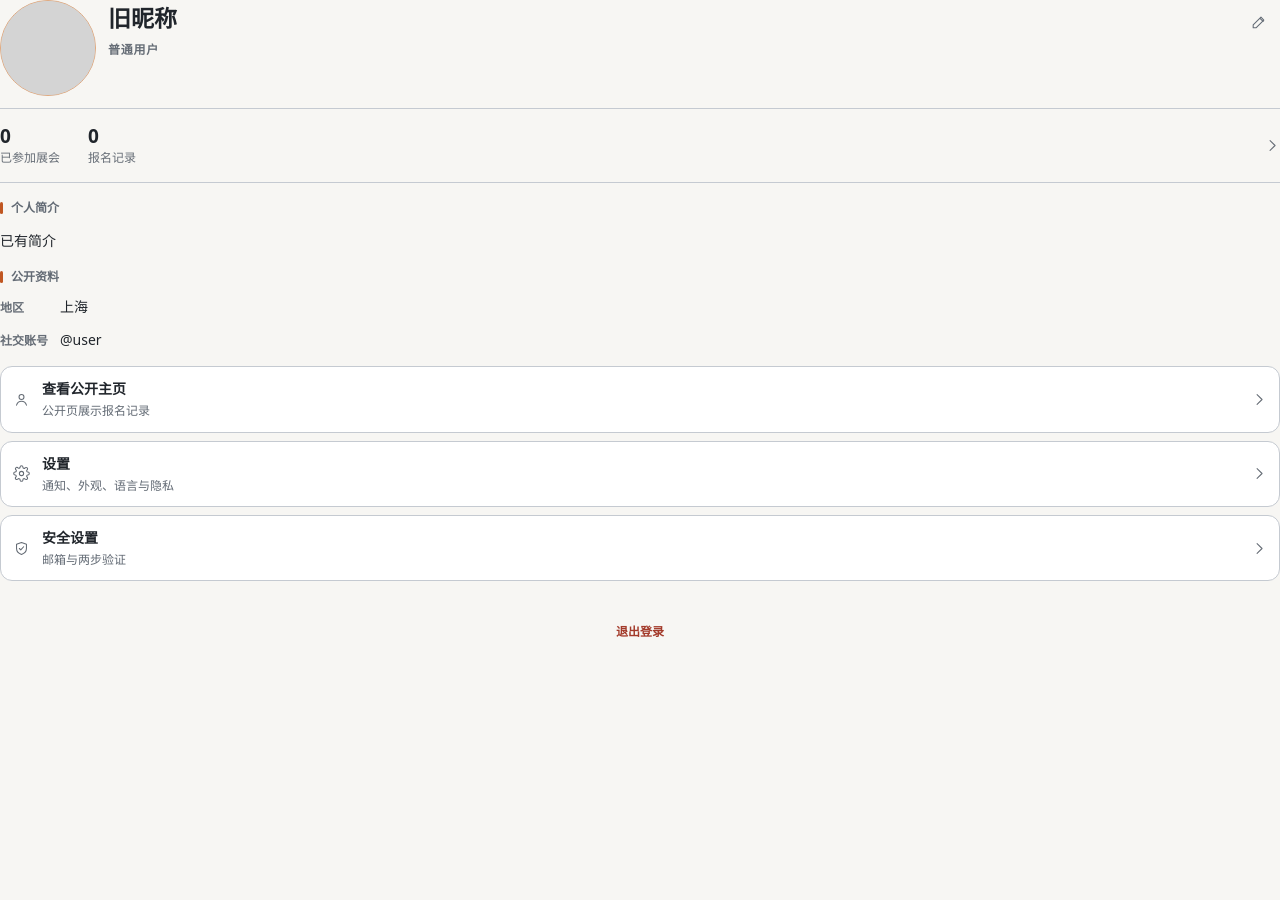
Scenario: 个人页资料展示与编辑 › 身份卡只留身份与活动，简介在简介卡，地区与社交账号在公开资料卡
Check: the element showing "旧昵称 普通用户 0 已参加展会 0 报名记录" is shown, box [0,0,1279,183]
Check: the text "上海" is not shown
Click the button named "编辑资料": click(1258, 22) [1236,0,1279,44]
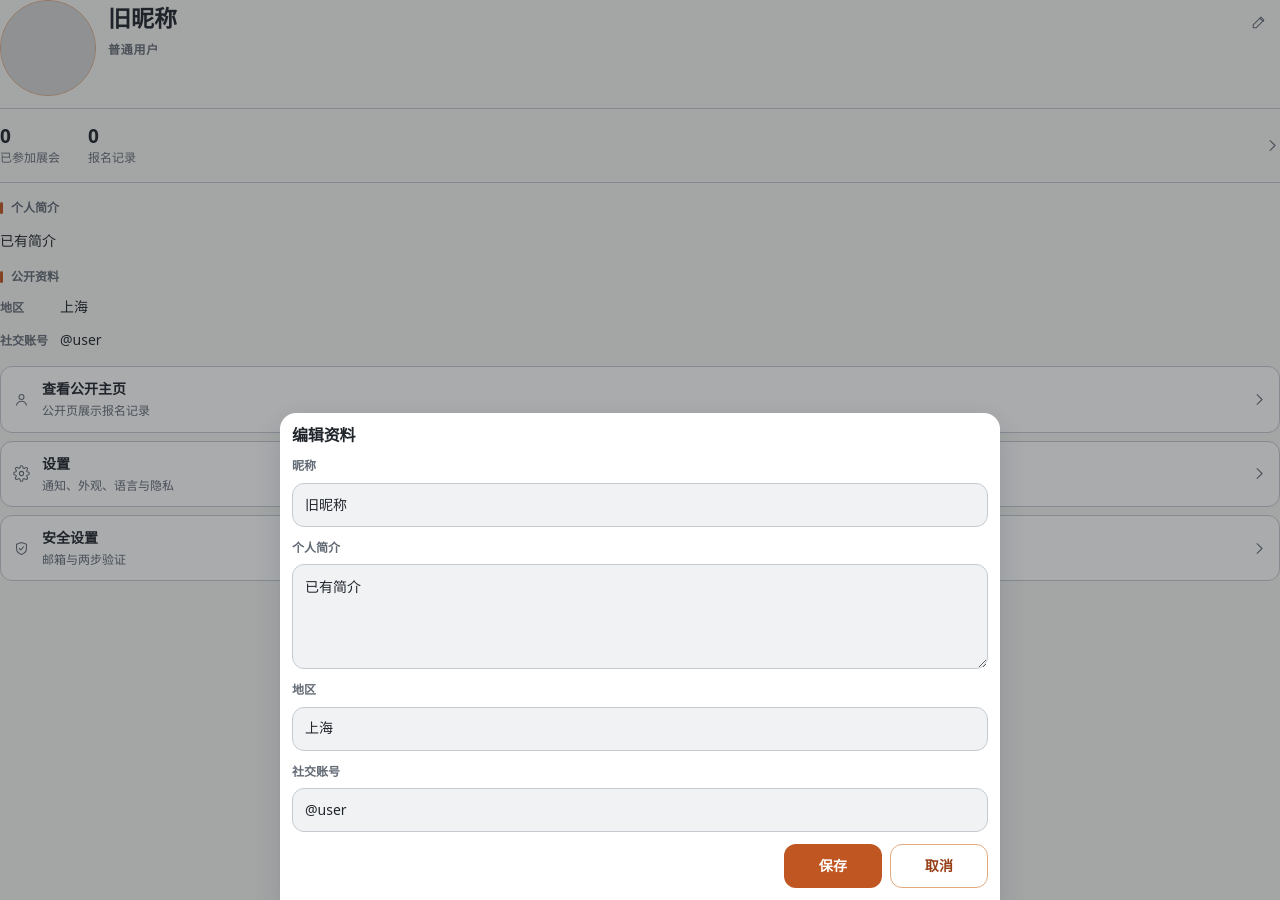
Check: the field with id "settings-nickname" holds "旧昵称", box [292,483,988,527]
Check: the text box with id "settings-bio" holds "已有简介", box [292,564,988,669]
Check: the field with id "settings-region" holds "上海"
Replace the text in the field with id "settings-region" with "杭州": (640, 729) [292,707,988,751]
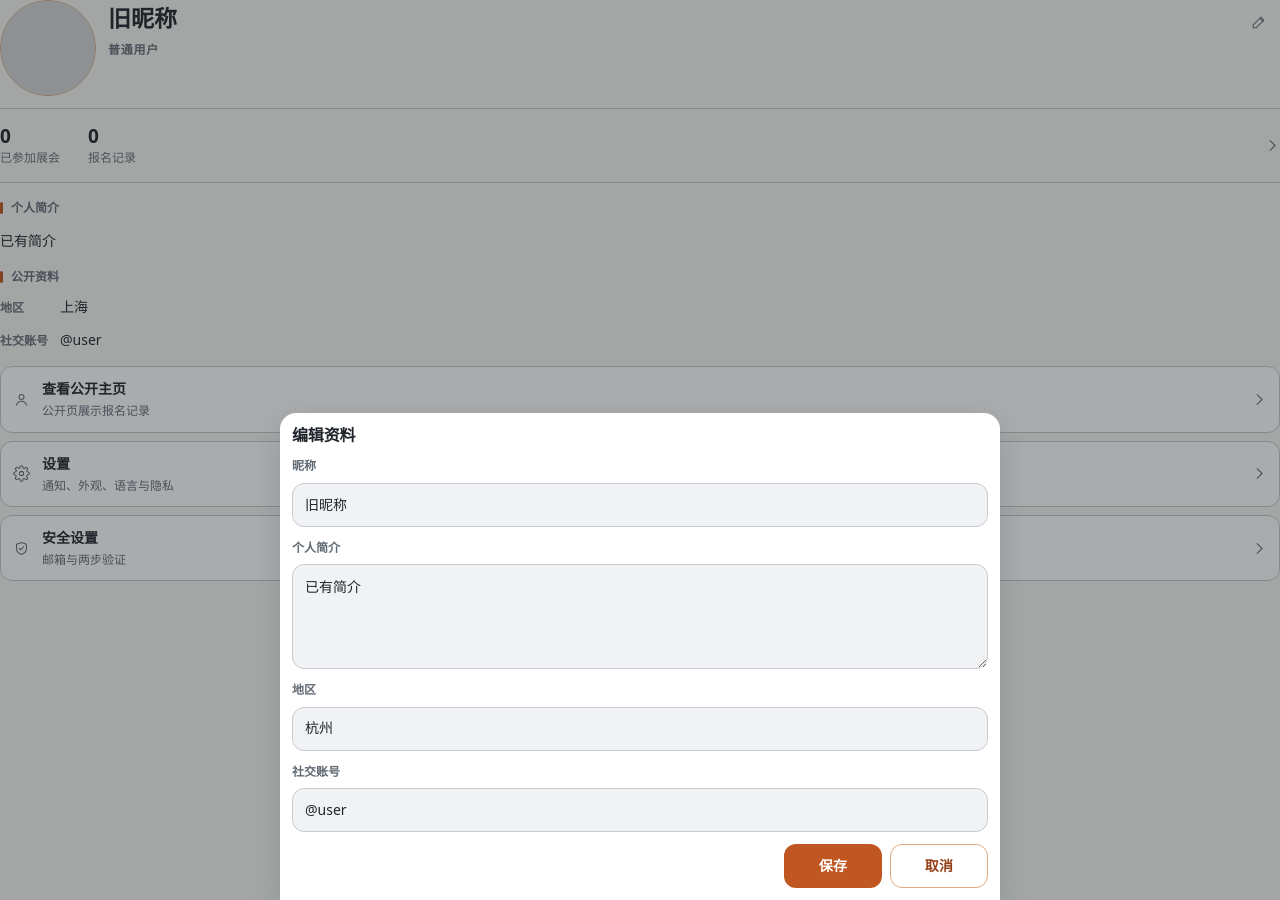
Click the button "保存": click(833, 866) [784,844,882,888]
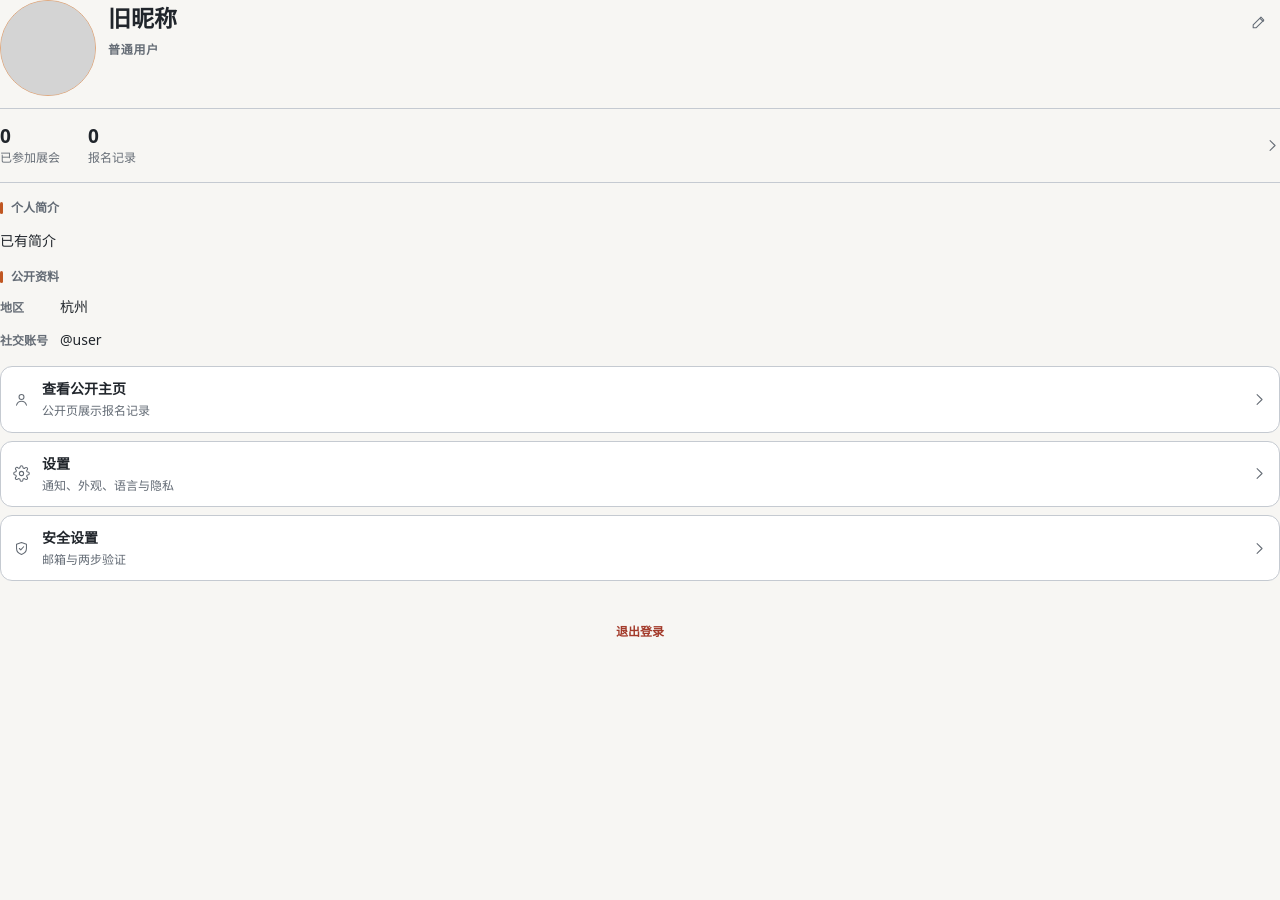
Check: the text "杭州" is not shown
Check: the element showing "公开资料 地区 杭州 社交账号 @user" is shown, box [0,268,102,349]
